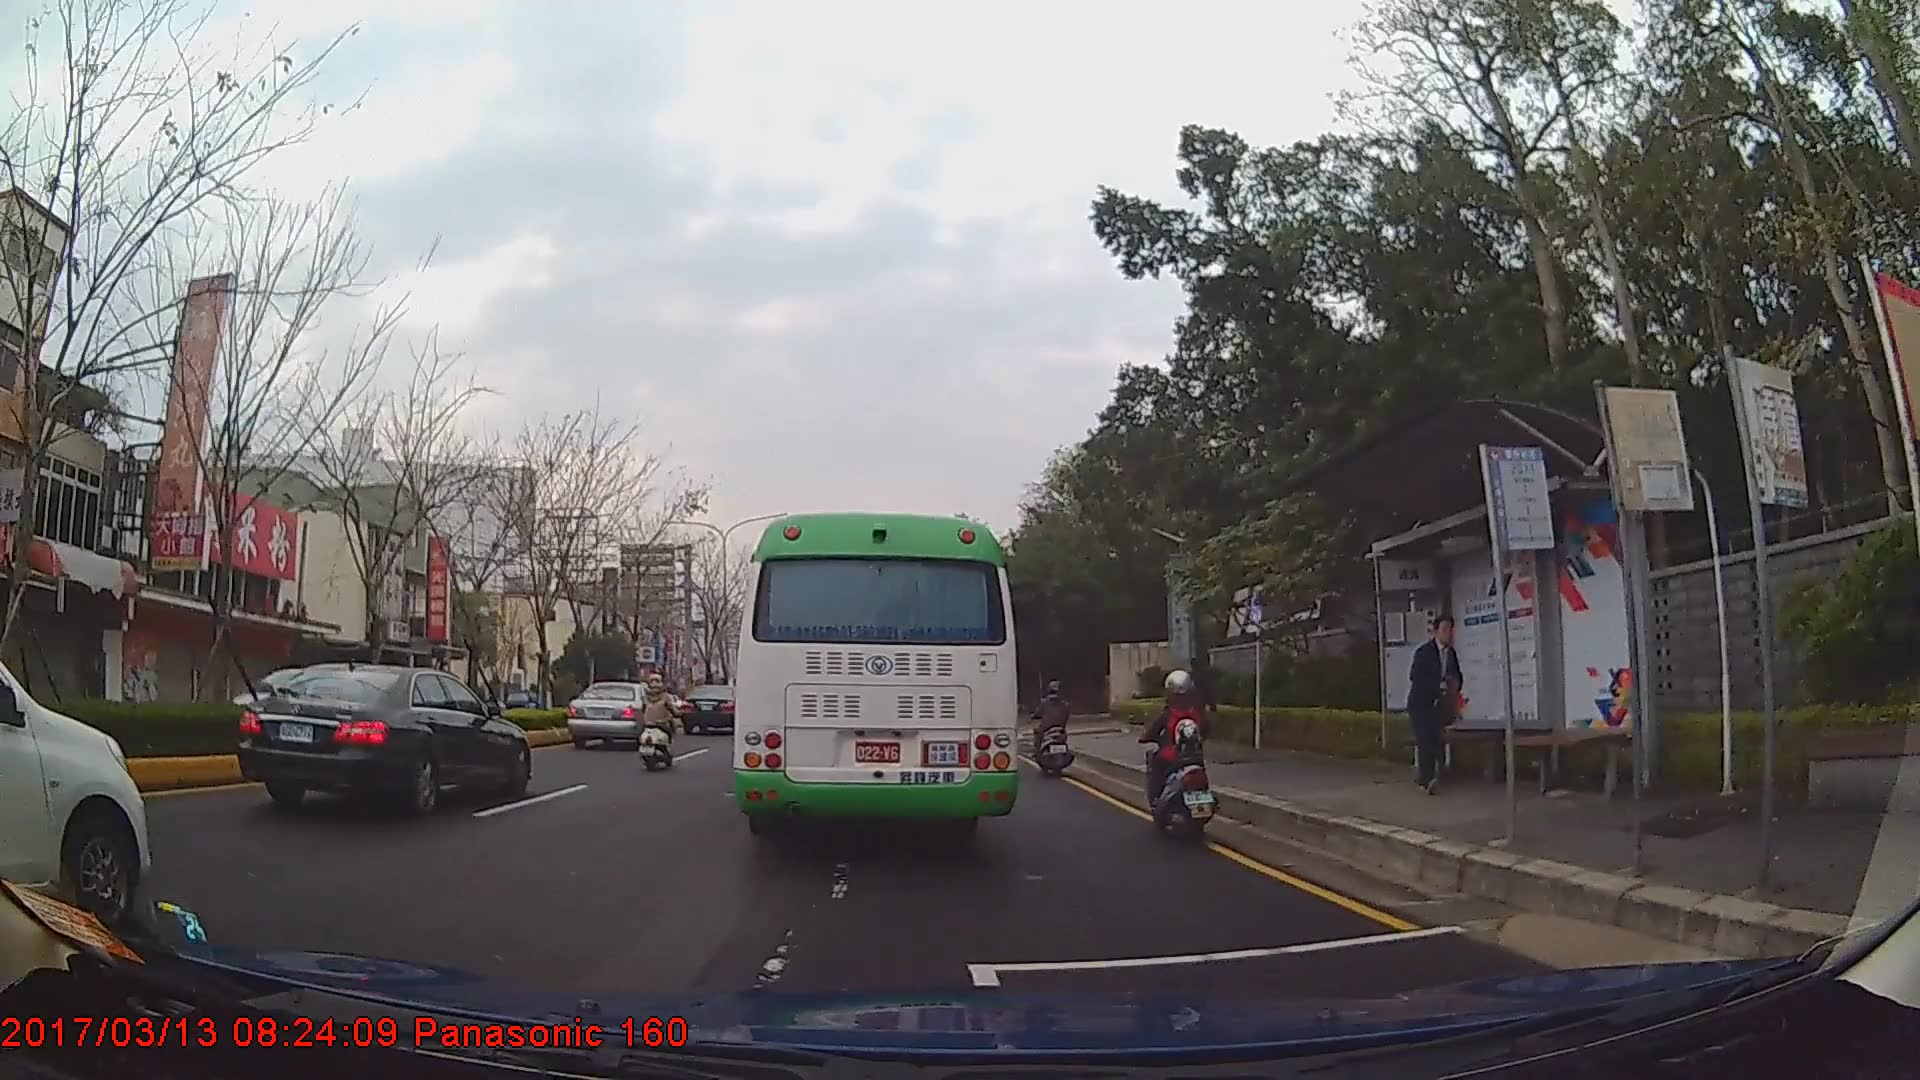pedestrian: (1409, 608, 1473, 794), (1164, 647, 1216, 755)
rider: (1136, 665, 1224, 837), (1030, 671, 1076, 775), (642, 670, 681, 764), (737, 680, 765, 730)
vehicle: (732, 508, 1014, 846), (235, 657, 531, 809), (567, 678, 664, 748), (678, 681, 747, 735)
